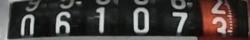digits: (203, 5, 234, 38), (166, 2, 187, 34), (132, 6, 149, 32), (54, 11, 71, 33), (94, 6, 105, 32), (20, 14, 34, 34)
